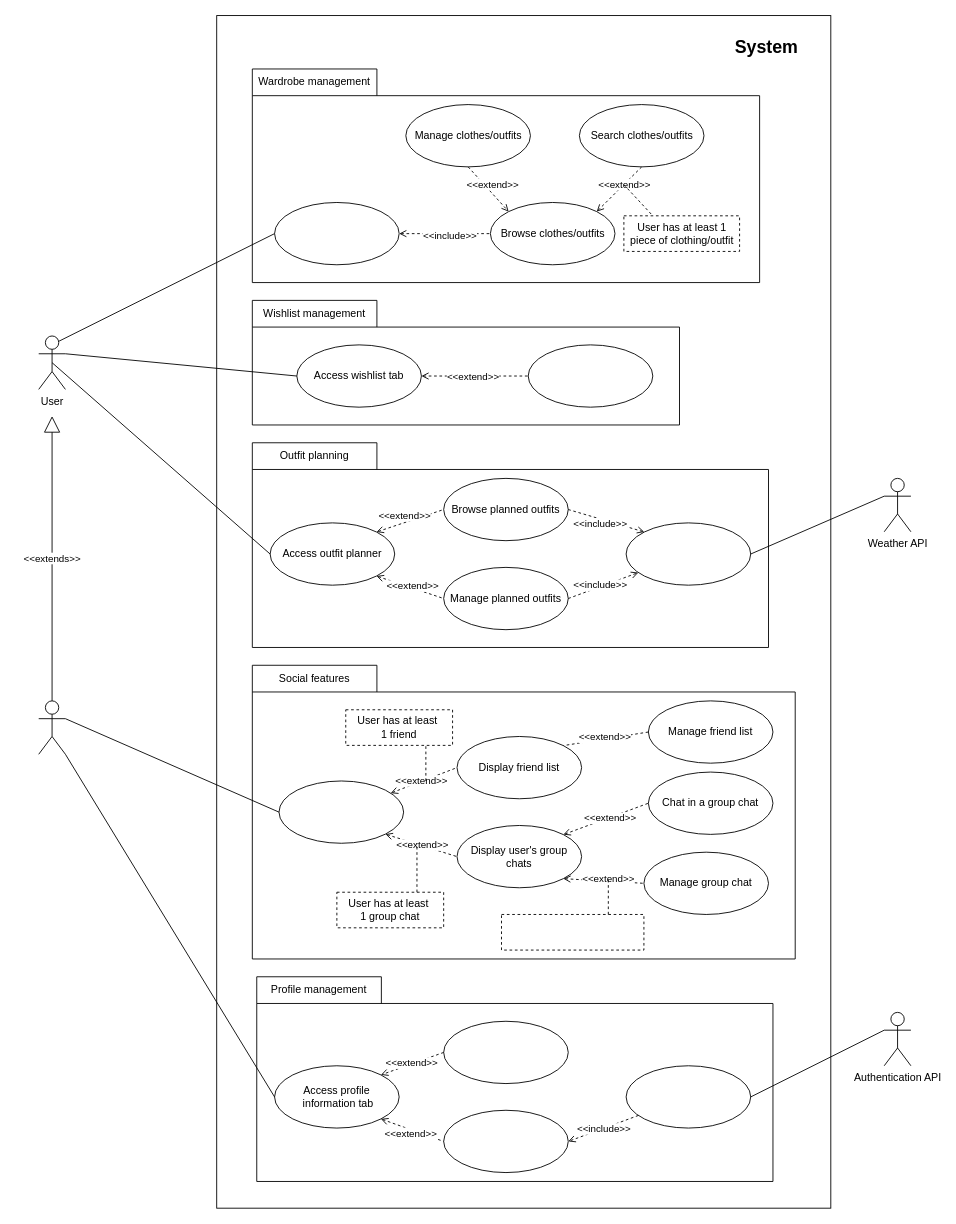
Some shapes in this 956 by 1224 pixel diagram are drawn without their labels. The centre of each missing label's shape, as x and y in pixels:
Access friends & groups tab: the point at 341,811
Access wardrobe tab: the point at 336,233
Authenticate user: the point at 688,1096
Logged-in User: the point at 51,727
Manage login: the point at 505,1141
Manage profile information: the point at 505,1052
Manage wishlist items: the point at 590,375
Retrieve weather data: the point at 688,553
User has administrative prvilages for the group chat: the point at 572,932
